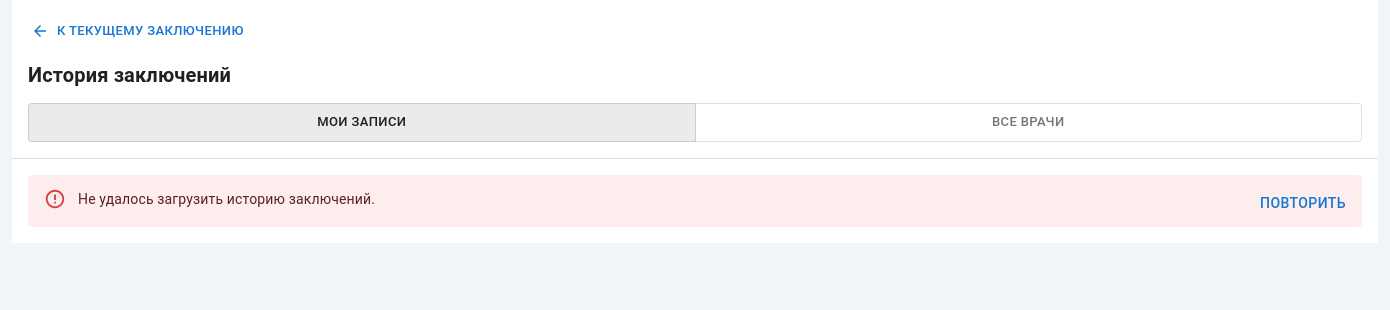
Test: patient history in a visit › shows a load failure separately from an empty chart and retries
This screenshot has width=1390, height=310.
Step 1. Click the button "Повторить" → (1303, 203), box [1252,184,1354,221]
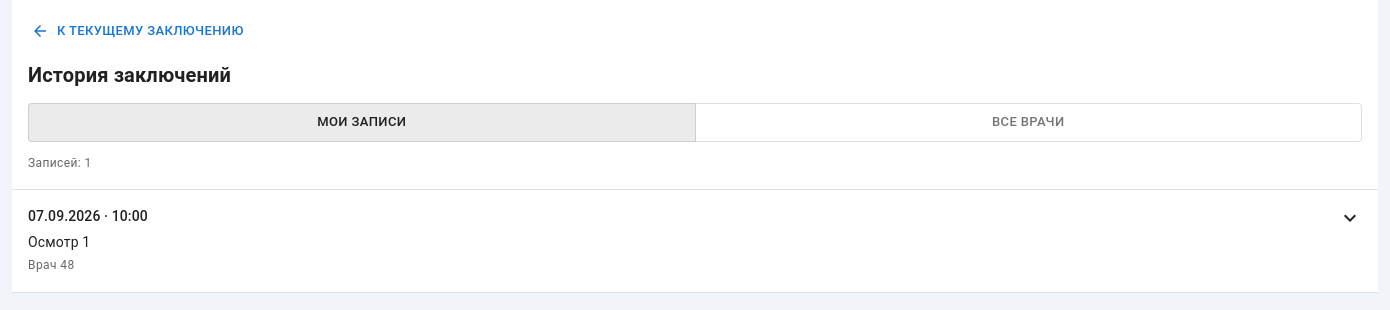
Expected: the text "Осмотр 1" is shown, [28,234,90,250]
